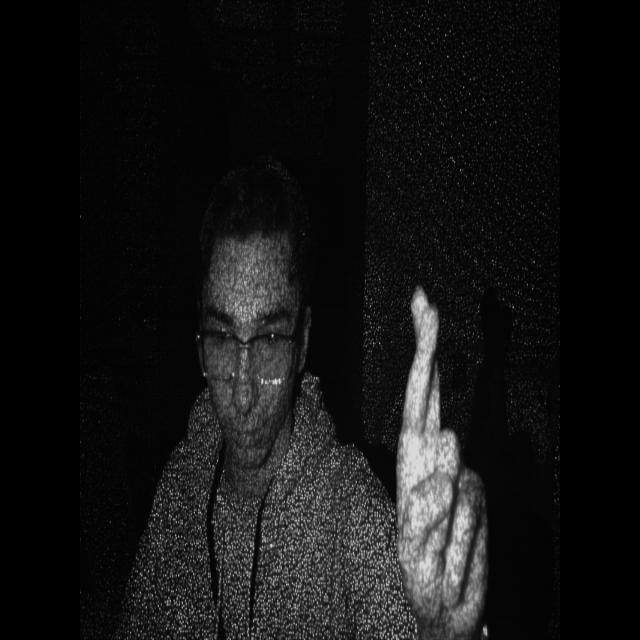R: (386, 269, 501, 640)
